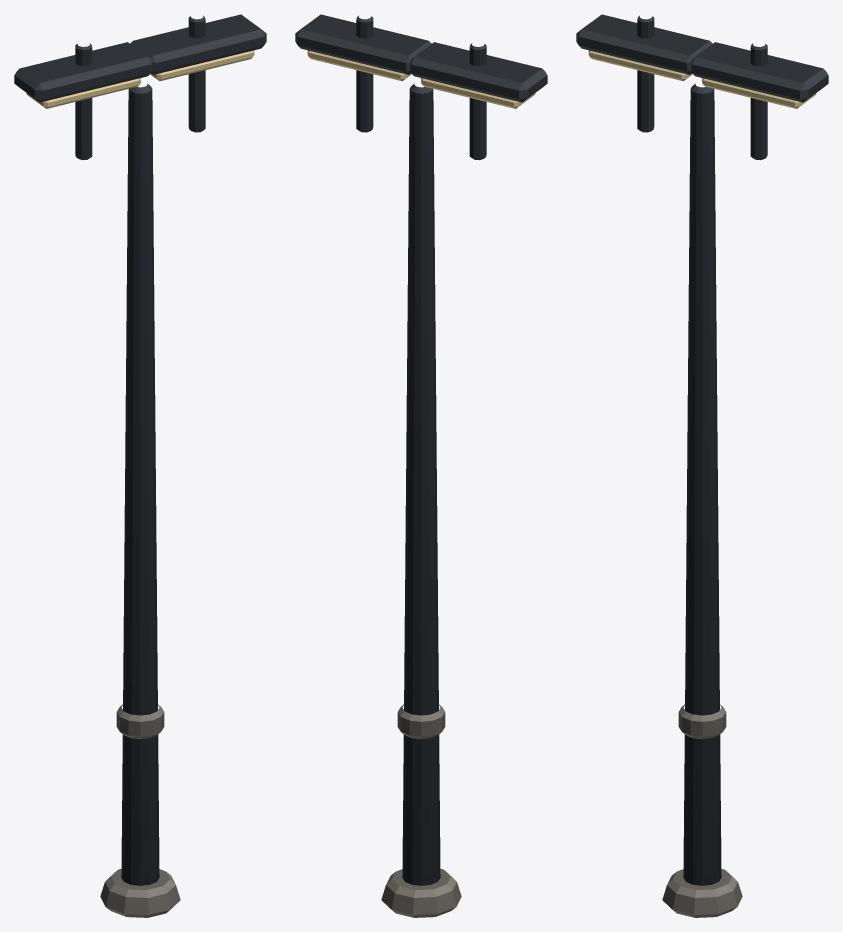
The model's file is street-lamp-twin-v1.glb.
3 views of the same model, side by side, from view 1: azimuth 30°, elevation 25°; view 2: azimuth 150°, elevation 25°; view 3: azimuth 330°, elevation 25° (orthographic).
Visible parts, largest first — view 1: street-lamp-twin-v1.lod0; view 2: street-lamp-twin-v1.lod0; view 3: street-lamp-twin-v1.lod0.
Part boxes in pixels (left/top/right/bottom): street-lamp-twin-v1.lod0: left=14, top=14, right=266, bottom=917; street-lamp-twin-v1.lod0: left=295, top=14, right=547, bottom=917; street-lamp-twin-v1.lod0: left=576, top=14, right=828, bottom=917.
Size of the model in its own units: 2.25 by 8.1 by 0.6467.
